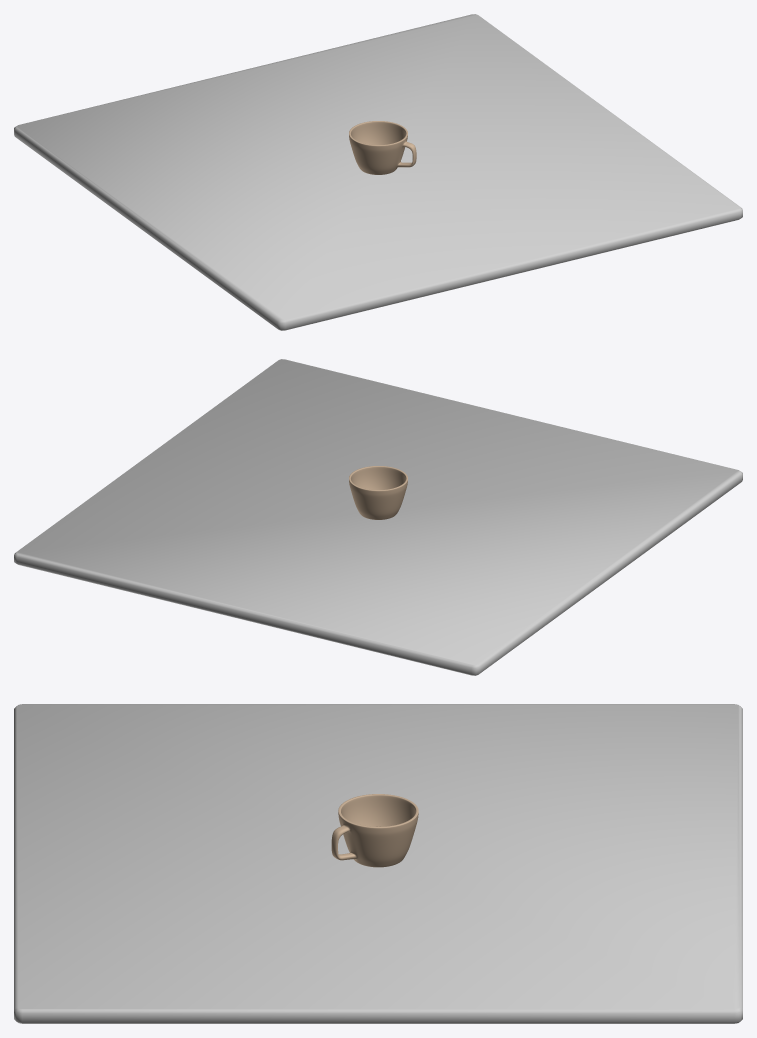
The model's file is Gelas.obj.
3 renders of one model, top to bottom at view 1: azimuth 30°, elevation 25°; view 2: azimuth 150°, elevation 25°; view 3: azimuth 270°, elevation 25°, orthographic. The views are drawn at different scales.
Visible parts, largest first — view 1: Plane, Circle; view 2: Plane, Circle; view 3: Plane, Circle.
Boxes of the visible parts, bbox=[...] form: Plane: bbox=[14, 14, 742, 330]; Circle: bbox=[349, 121, 416, 174]; Plane: bbox=[14, 359, 742, 675]; Circle: bbox=[349, 466, 407, 519]; Plane: bbox=[14, 704, 742, 1023]; Circle: bbox=[331, 794, 418, 867].
Size of the model in its own units: 57.22 by 5.23 by 57.22.
